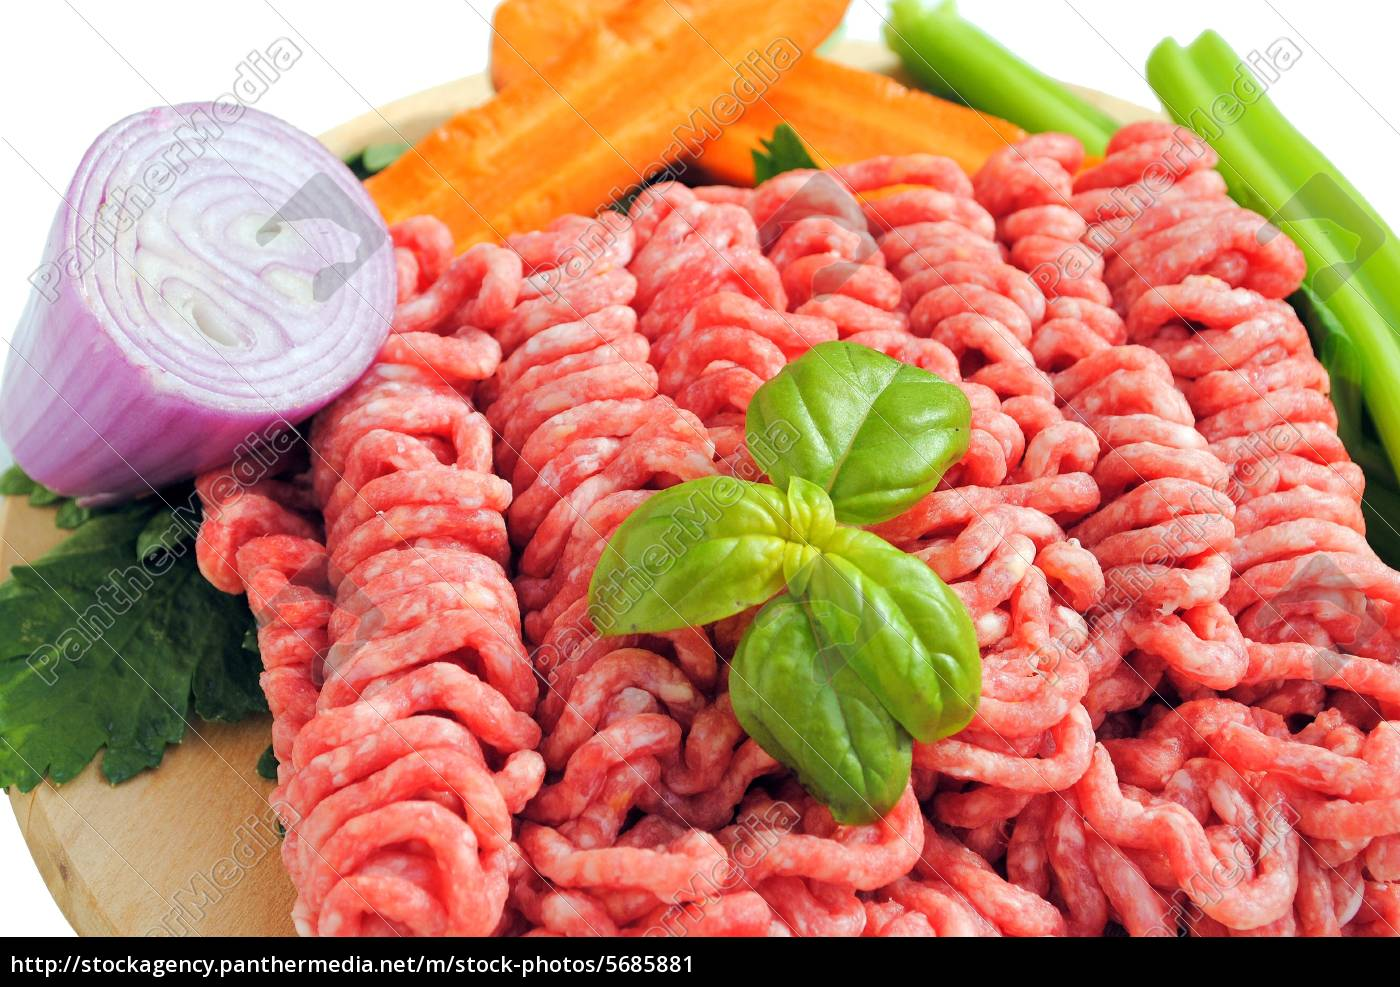ground_beef: (257, 426, 736, 965), (295, 153, 1226, 399), (926, 386, 1377, 881)
